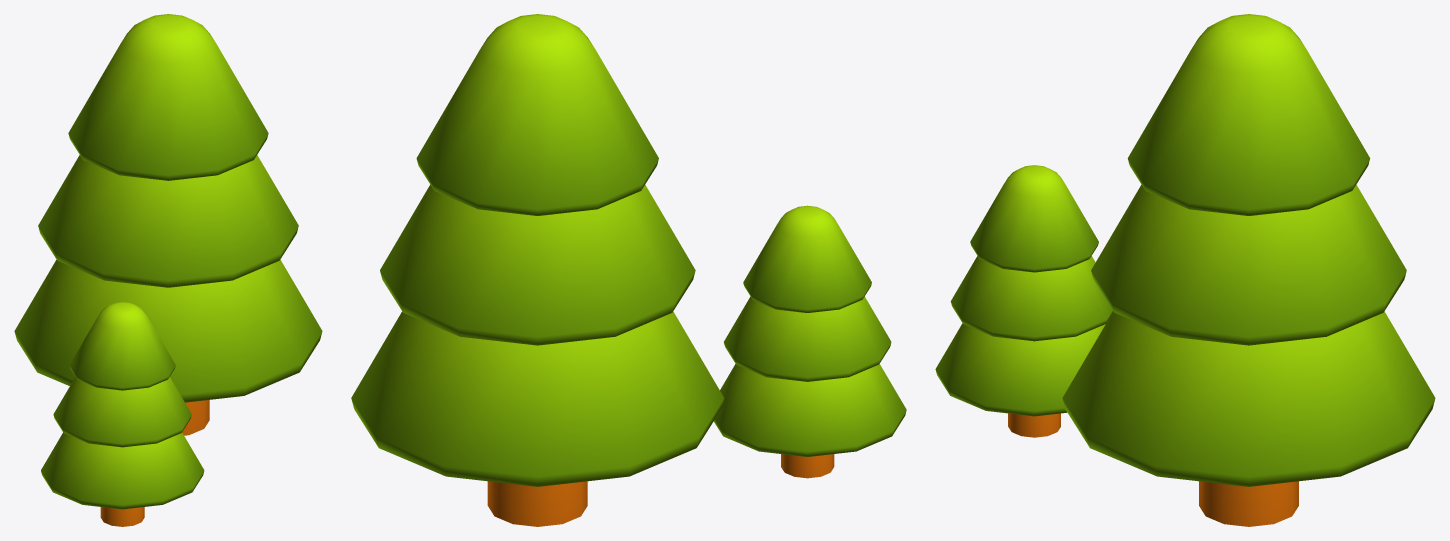
File: Plant_Tree_01A.fbx
3 renders of one model, left to right at view 1: azimuth 30°, elevation 25°; view 2: azimuth 150°, elevation 25°; view 3: azimuth 270°, elevation 25°, orthographic. The views are drawn at different scales.
Parts seen in each view (by area): view 1: Plant_Tree_01A; view 2: Plant_Tree_01A; view 3: Plant_Tree_01A.
Boxes of the visible parts, x1,y1,x2,y2 form: Plant_Tree_01A: (14, 14, 322, 526); Plant_Tree_01A: (351, 14, 906, 526); Plant_Tree_01A: (935, 14, 1435, 526).
Bounding box in the file's own units: 171 × 192 × 181.
